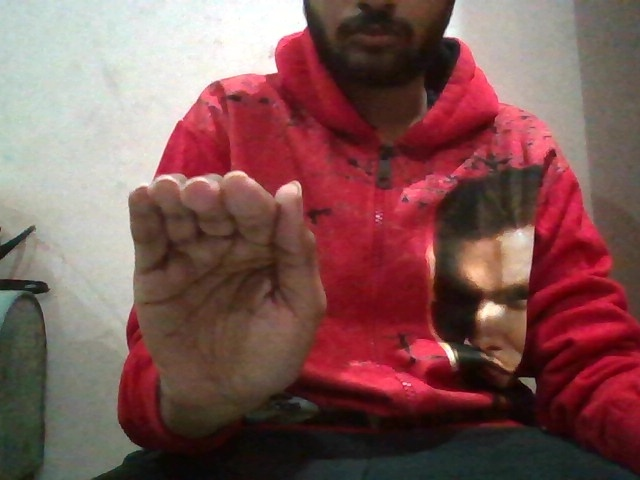C: (109, 162, 338, 425)
